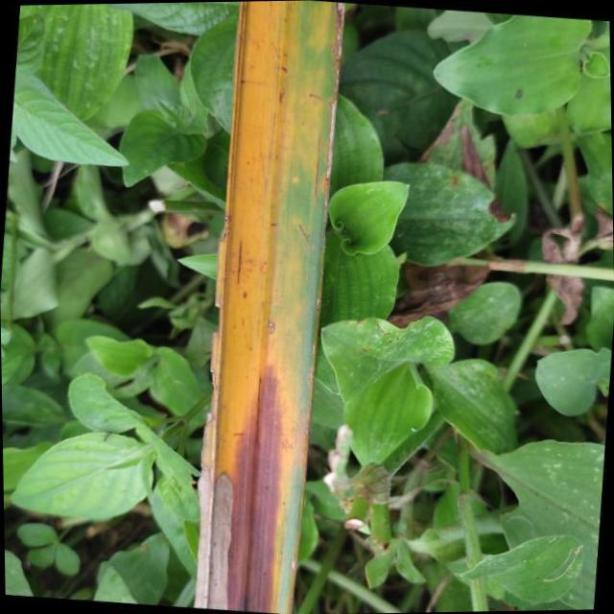Megnesium: (195, 0, 341, 614)
